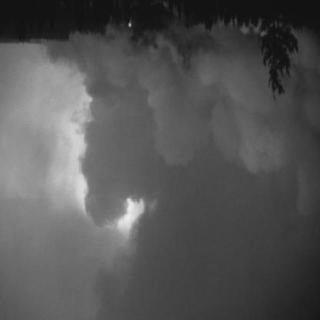Smoke: (74, 35, 316, 317)
